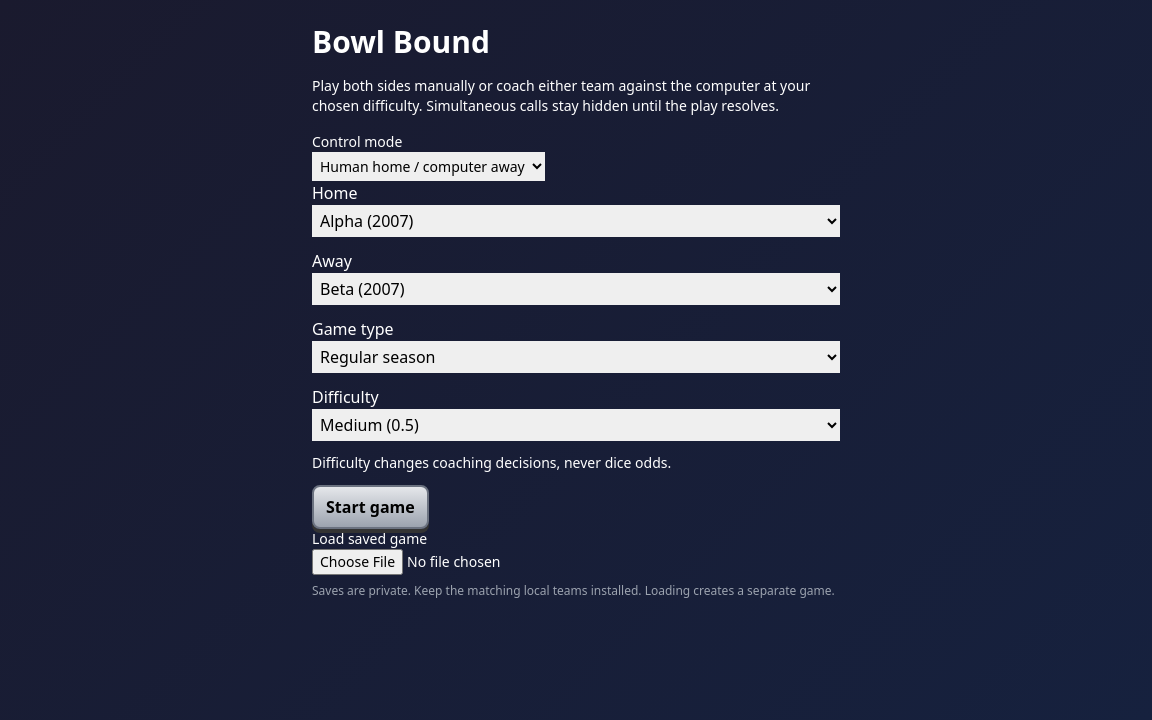
Test: shows a separate toss screen then enters kickoff after the engine decision, mode=manual
Expected: the button with test id "start-game" is shown, [312,485,429,529]
Select "Two-sided manual play" in the dropdown labelled "Control mode" at (428, 166), box [312,152,545,181]
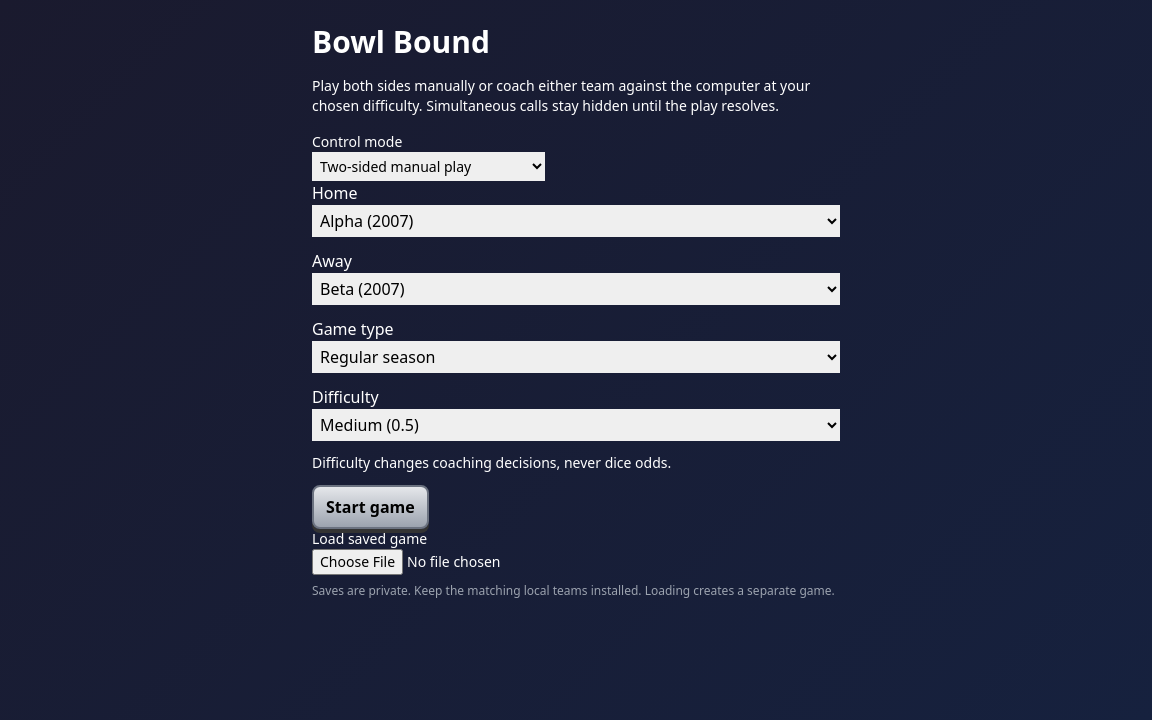
Click the button with test id "start-game" at (370, 507), box [312,485,429,529]
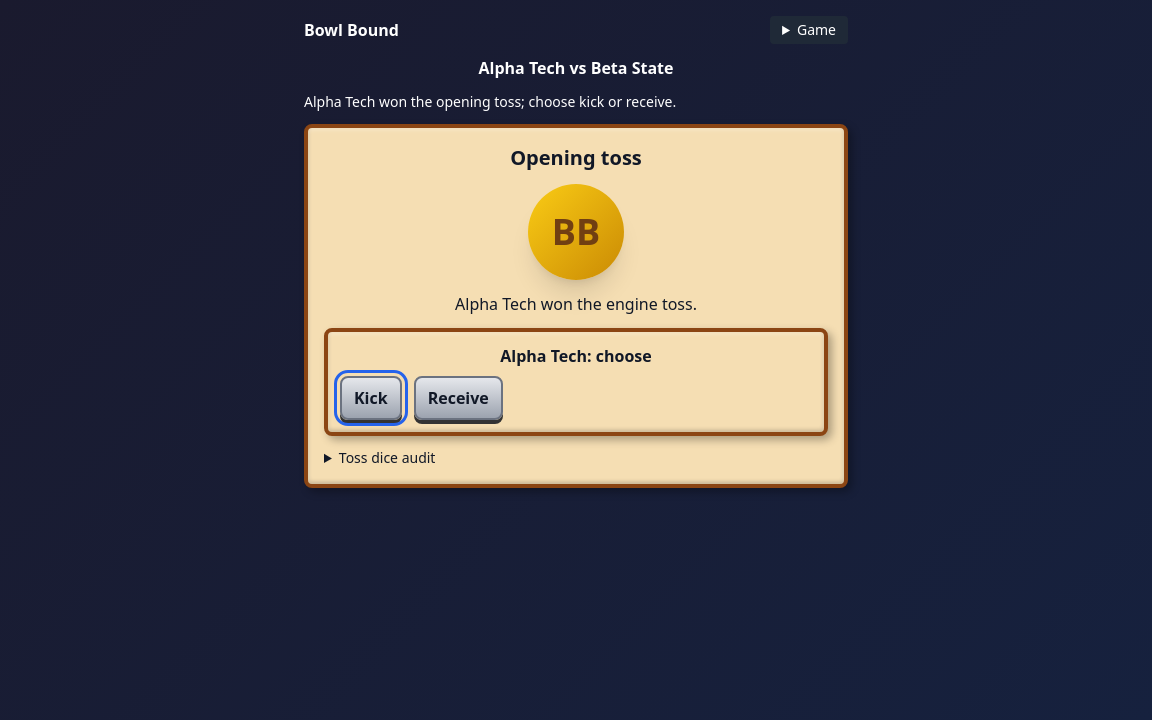
Expected: the element with test id "opening-screen" is shown, [288,0,864,504]
Expected: the button "Receive" is shown, [414,376,503,420]
Click the button "Kick" at (371, 398), box [340,376,402,420]
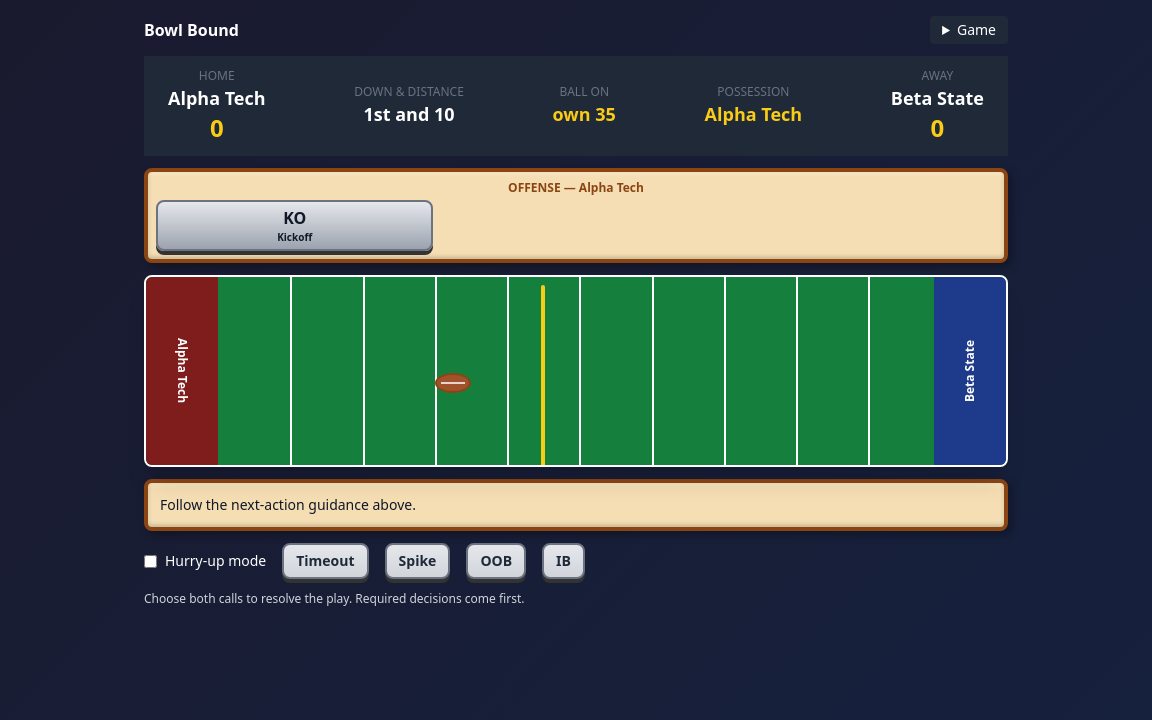
Expected: the element with test id "playing-screen" is shown
Expected: the element with test id "coin-toss" is gone
Expected: the button with test id "special-play-kickoff" is shown, [156,200,433,251]
